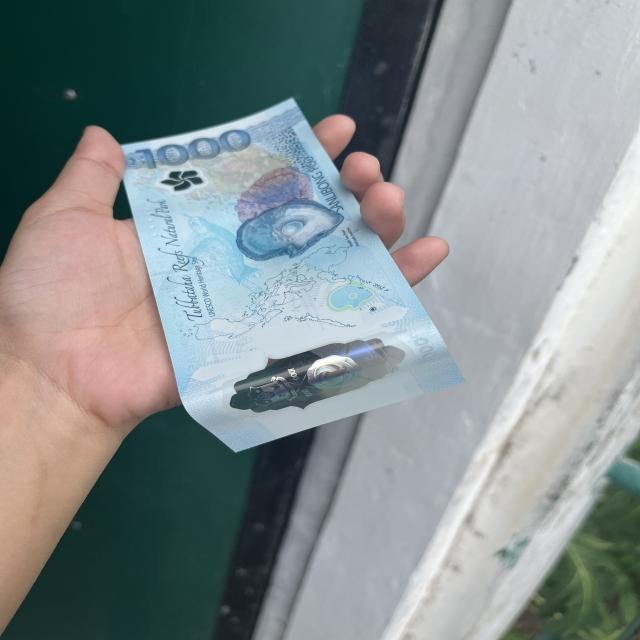clear_window: (178, 307, 453, 441)
sampaguita: (153, 168, 208, 194)
security_thread: (148, 214, 372, 294)
